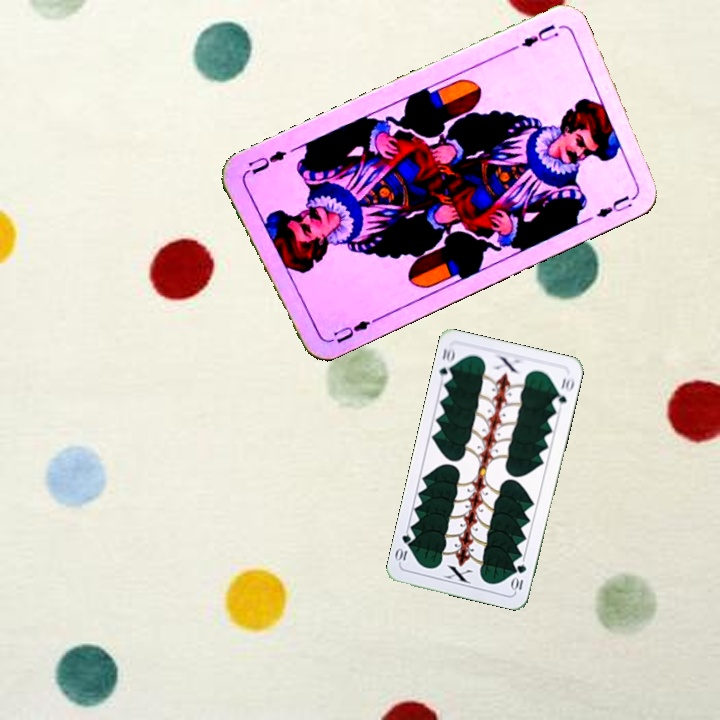EU: (322, 315, 378, 346), (517, 20, 562, 50)
G10: (435, 343, 458, 385), (508, 560, 529, 594)
